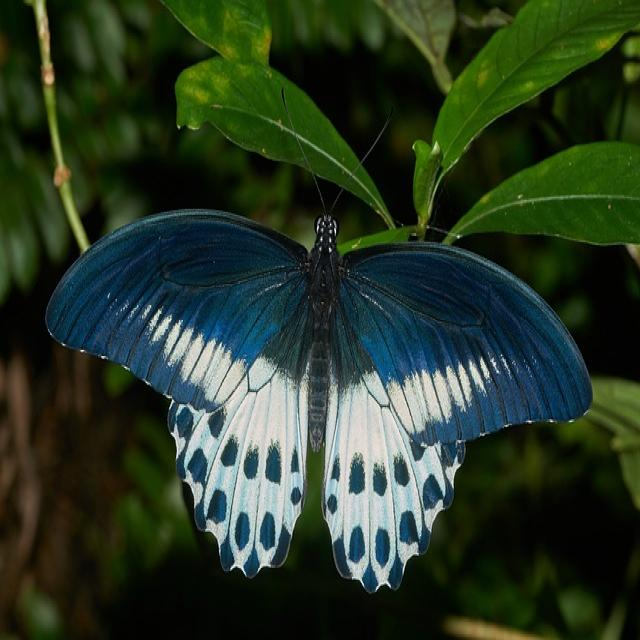butterfly: (44, 86, 593, 594)
